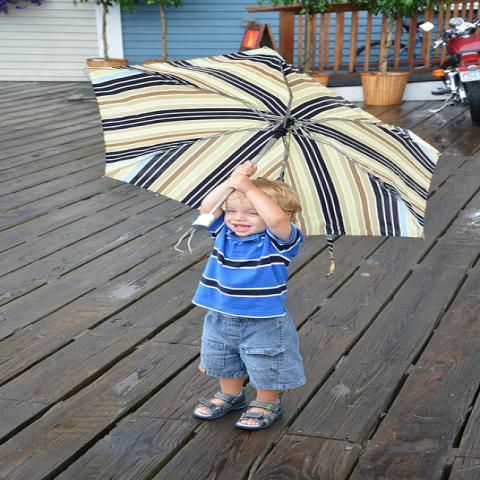motorcycle: (410, 13, 479, 127)
